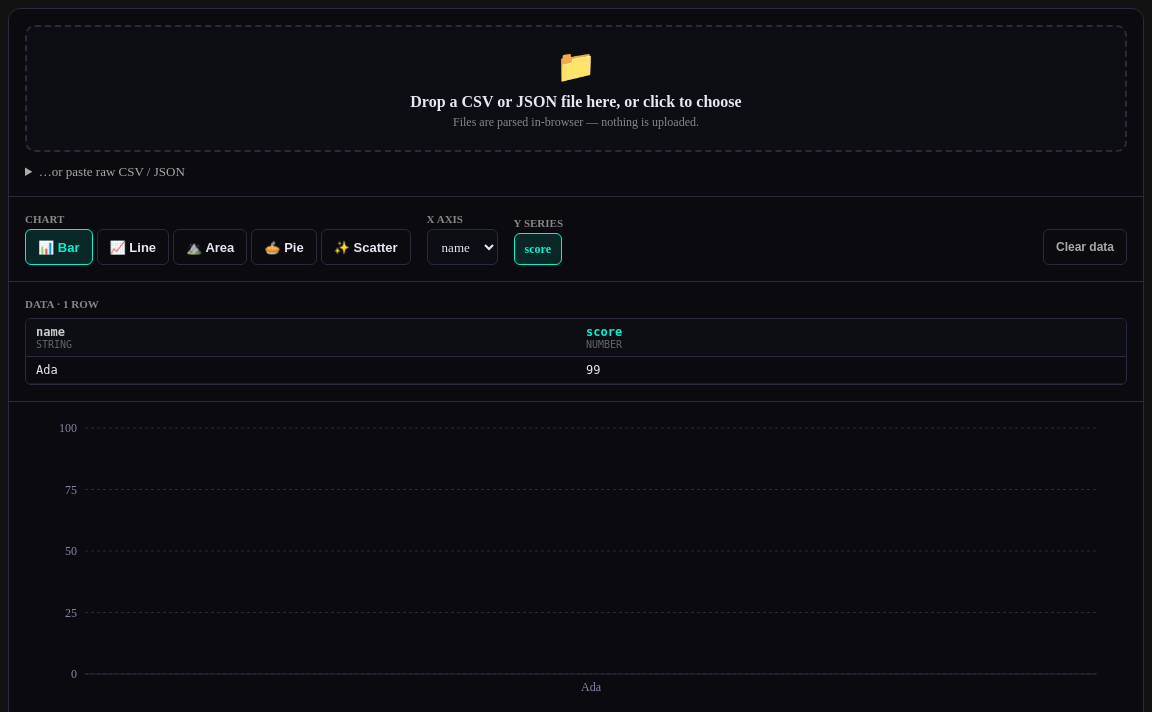
TkxDataExplorer UI › clears data on demand
This screenshot has width=1152, height=712.
Click the button with test id "clear-data".
click(1085, 247)  # box [1043,229,1127,265]
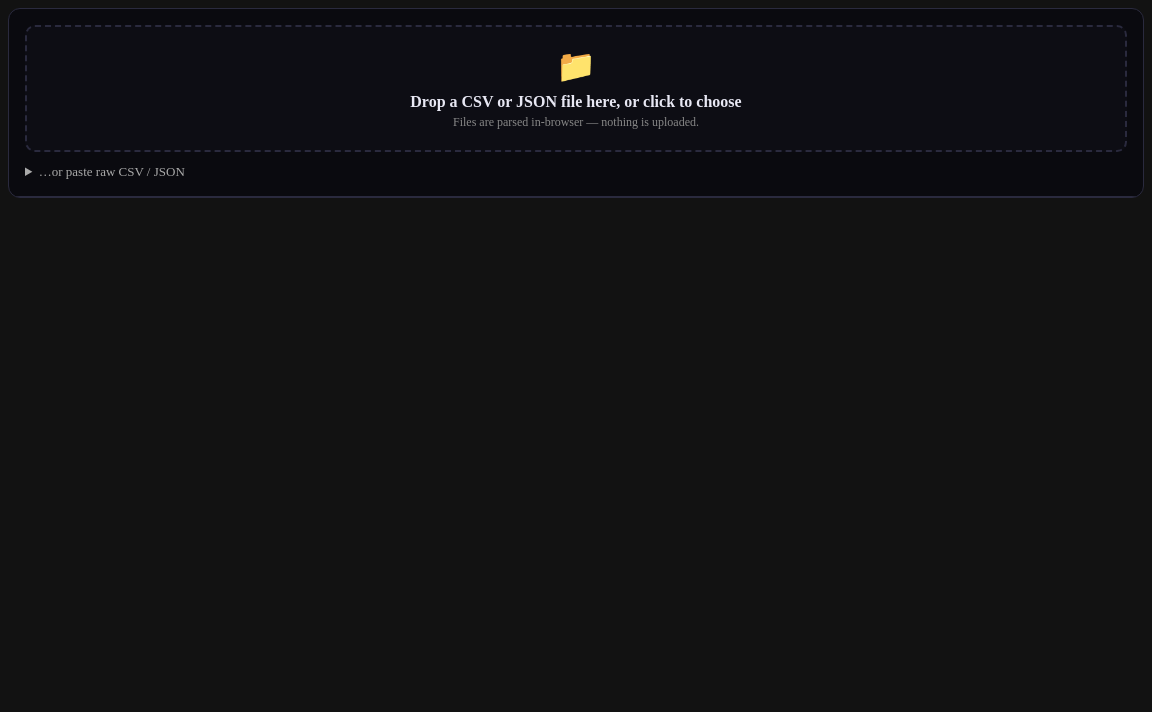
Check: the button with test id "upload-zone" is shown, box [25,25,1127,152]
Check: the row with test id "preview-row-0" is gone
